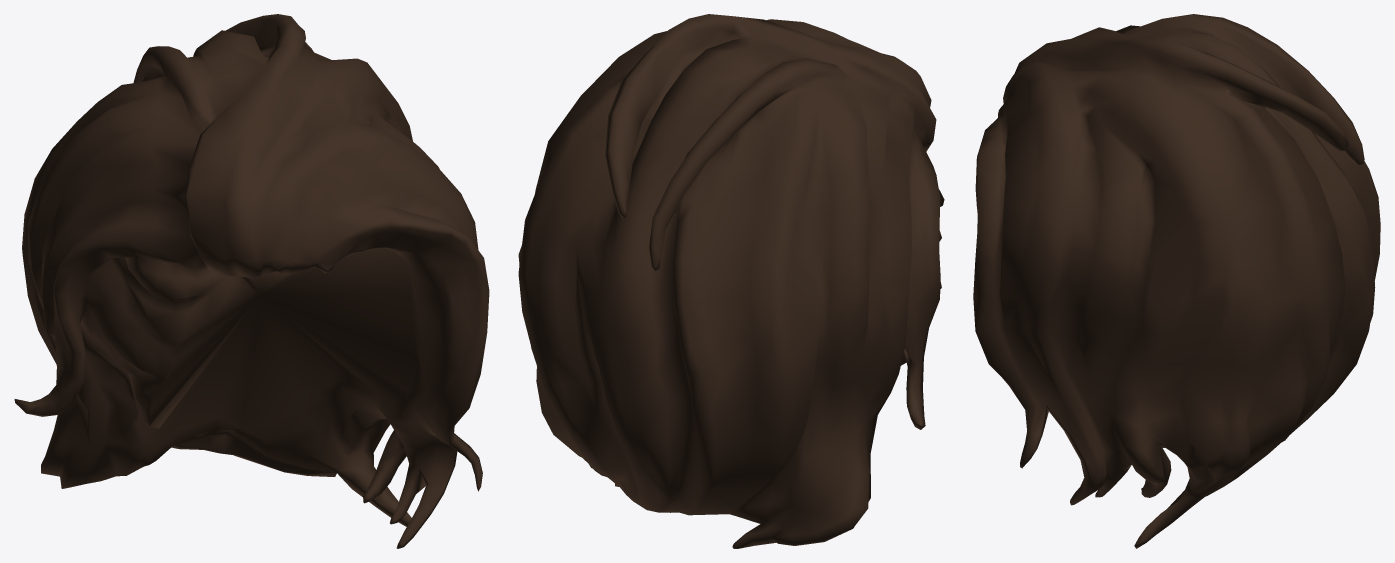
The model's file is hair_w09.glb.
3 views of the same model, side by side, from view 1: azimuth 30°, elevation 25°; view 2: azimuth 150°, elevation 25°; view 3: azimuth 270°, elevation 25° (orthographic). The views are drawn at different scales.
Parts seen in each view (by area): view 1: hair_w09; view 2: hair_w09; view 3: hair_w09.
Part boxes in pixels (x1,y1,x2,y2): hair_w09: [14, 14, 489, 548]; hair_w09: [518, 14, 944, 548]; hair_w09: [973, 14, 1380, 548].
Bounding box in the file's own units: 0.2202 × 0.2747 × 0.22.
